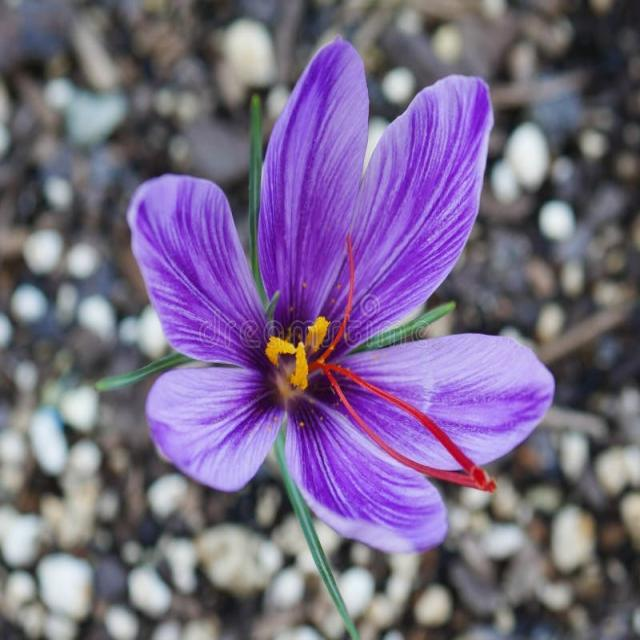Flower: (132, 28, 556, 558)
stigma: (326, 357, 509, 492), (328, 225, 359, 350)
